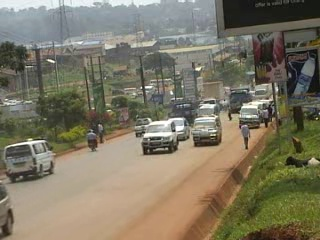Car: (140, 118, 180, 157), (0, 177, 17, 236), (166, 114, 190, 142), (133, 114, 155, 137)
Motorcycle: (84, 126, 99, 152), (220, 96, 227, 114)
